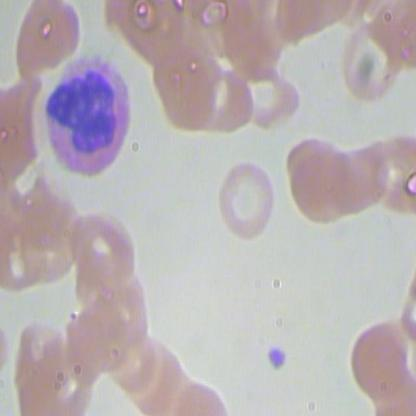Platelets: (265, 343, 290, 371)
RBC: (283, 133, 357, 231), (148, 44, 223, 139), (333, 17, 408, 101), (68, 208, 142, 293), (341, 315, 415, 399), (10, 1, 84, 83), (213, 157, 280, 244), (242, 60, 302, 129)
WBC: (38, 48, 135, 179)
